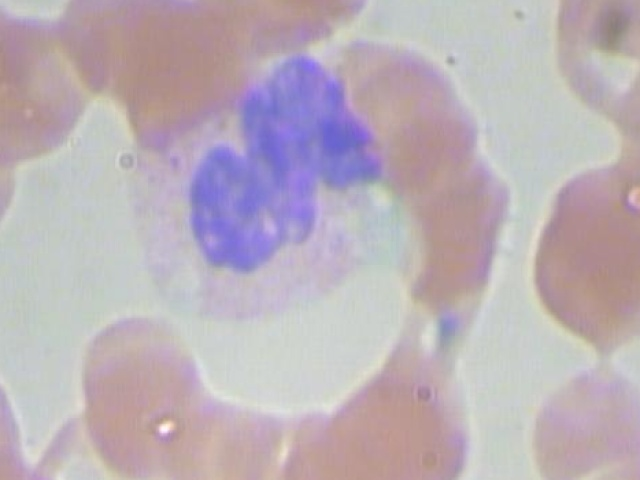RBC: (71, 300, 196, 463), (101, 339, 227, 480), (0, 3, 107, 164), (518, 352, 640, 480), (131, 359, 257, 480), (178, 374, 303, 480), (3, 396, 157, 480), (545, 0, 640, 136), (538, 0, 640, 73), (0, 93, 36, 254), (0, 0, 38, 114), (0, 349, 25, 480), (210, 0, 379, 17), (0, 458, 81, 480), (571, 456, 640, 480)
WBC: (104, 46, 372, 332)
